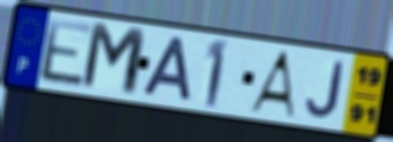1: (204, 38, 231, 111)
A: (140, 34, 194, 104), (246, 49, 297, 120)
E: (38, 16, 96, 91)
J: (304, 59, 347, 120)
M: (78, 19, 150, 100)
